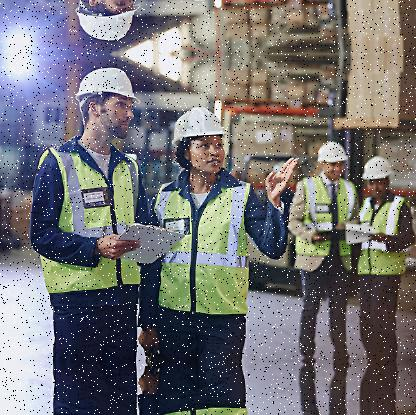helmet: (72, 57, 144, 137), (173, 98, 239, 178), (71, 0, 144, 50), (361, 153, 399, 200), (315, 138, 350, 181)
